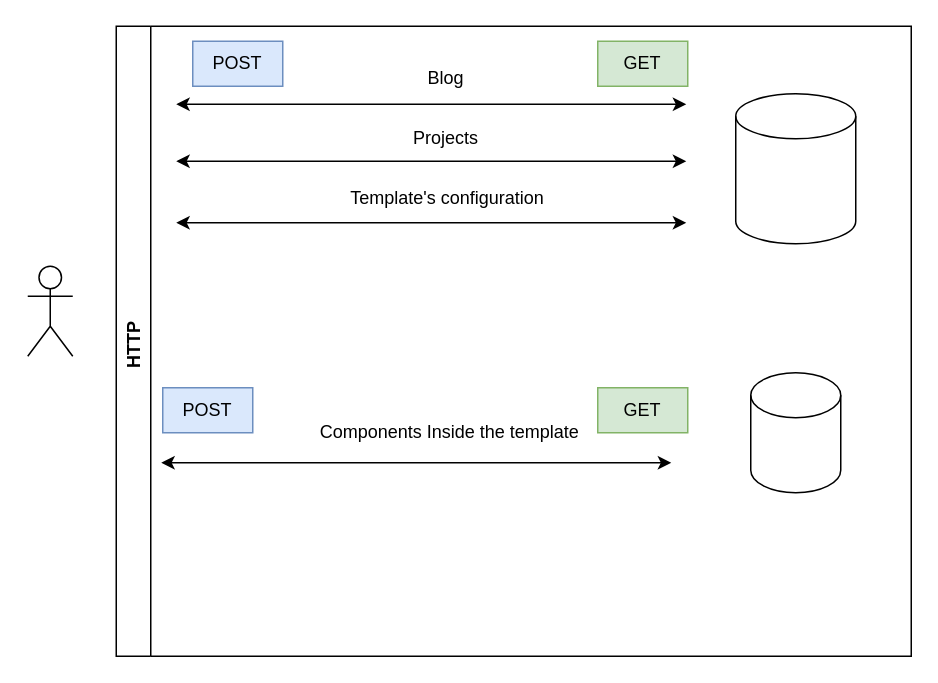
This 938x683 diagram has some shape labels left out. Each missing label, with the box of its shape:
NoSQL: (749, 371, 841, 493)
Relacional: (734, 92, 856, 244)
USER: (26, 265, 73, 356)
